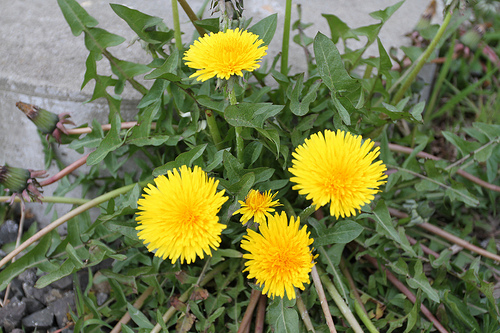dandelion yellow: (134, 163, 230, 265), (286, 128, 389, 222), (238, 209, 321, 302), (180, 25, 269, 85)
